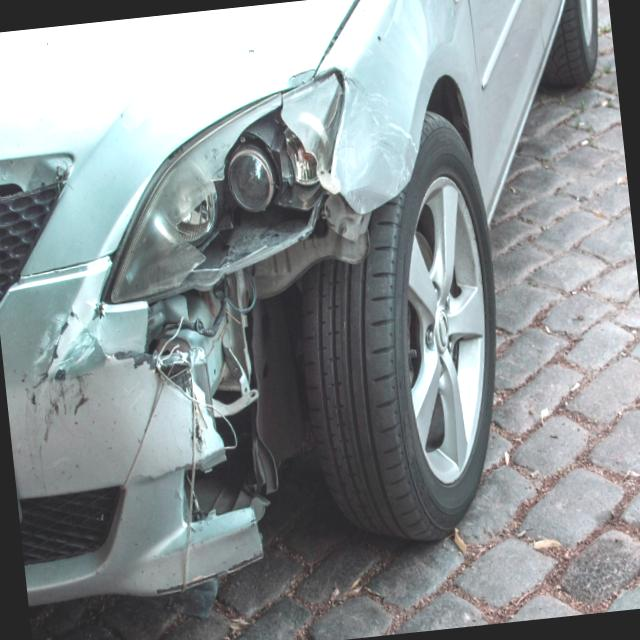Dechirure: (30, 299, 94, 402)
Phare abime: (69, 65, 368, 332)
